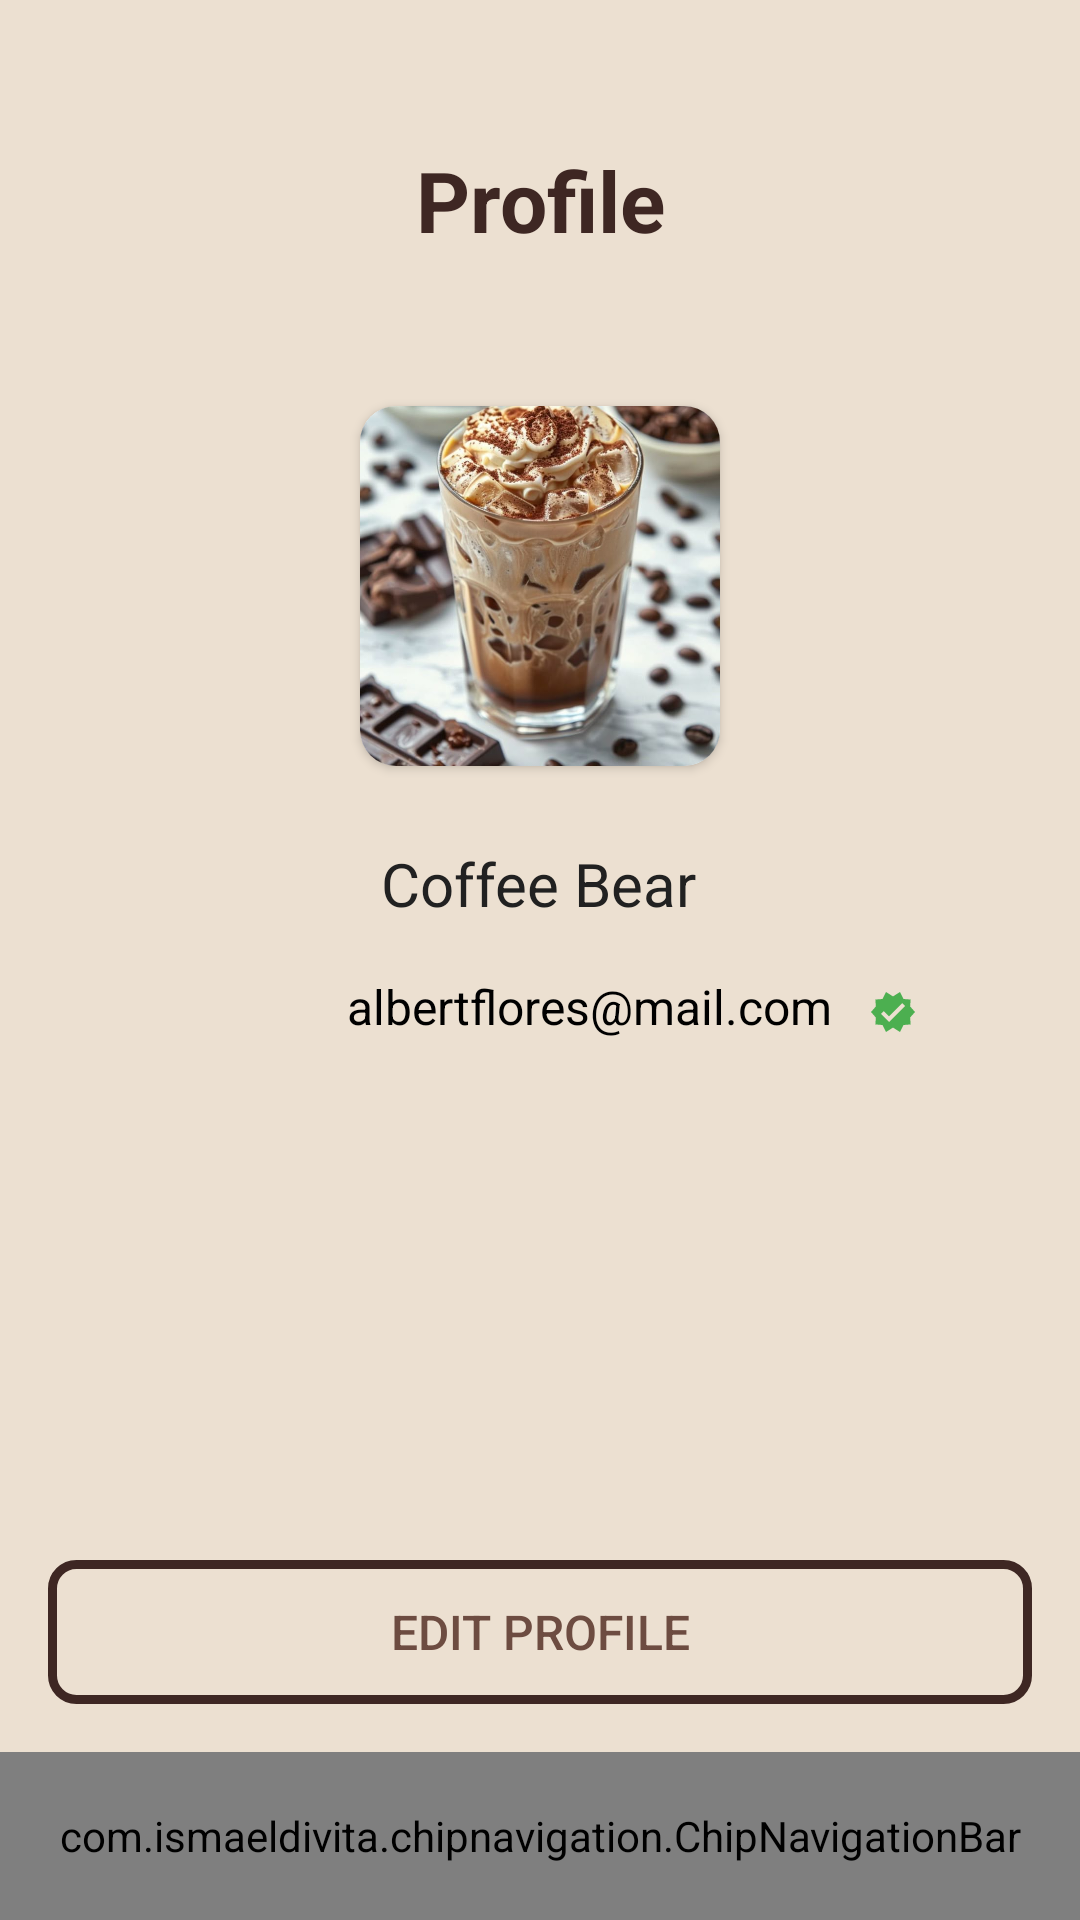

Named icons in this screenshot (1080px x 1920px) and their centers, (x=x, y=y):
cappuchino: (x=540, y=586)
verified: (x=893, y=1012)
